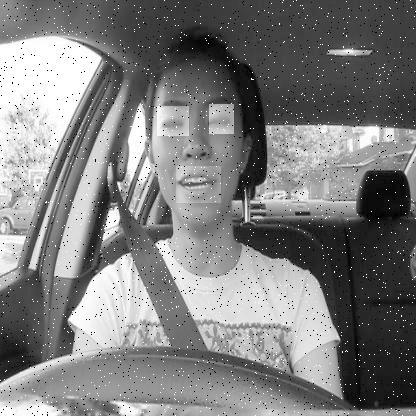seatbelt: (129, 24, 269, 346)
